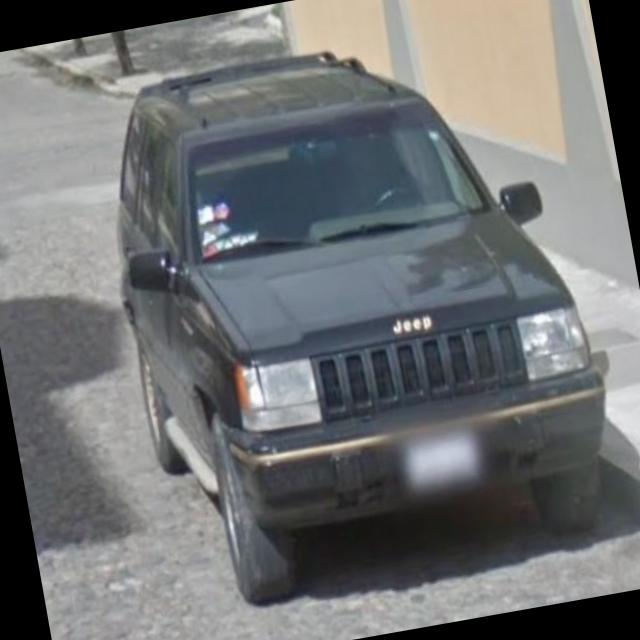car: (87, 1, 640, 634)
